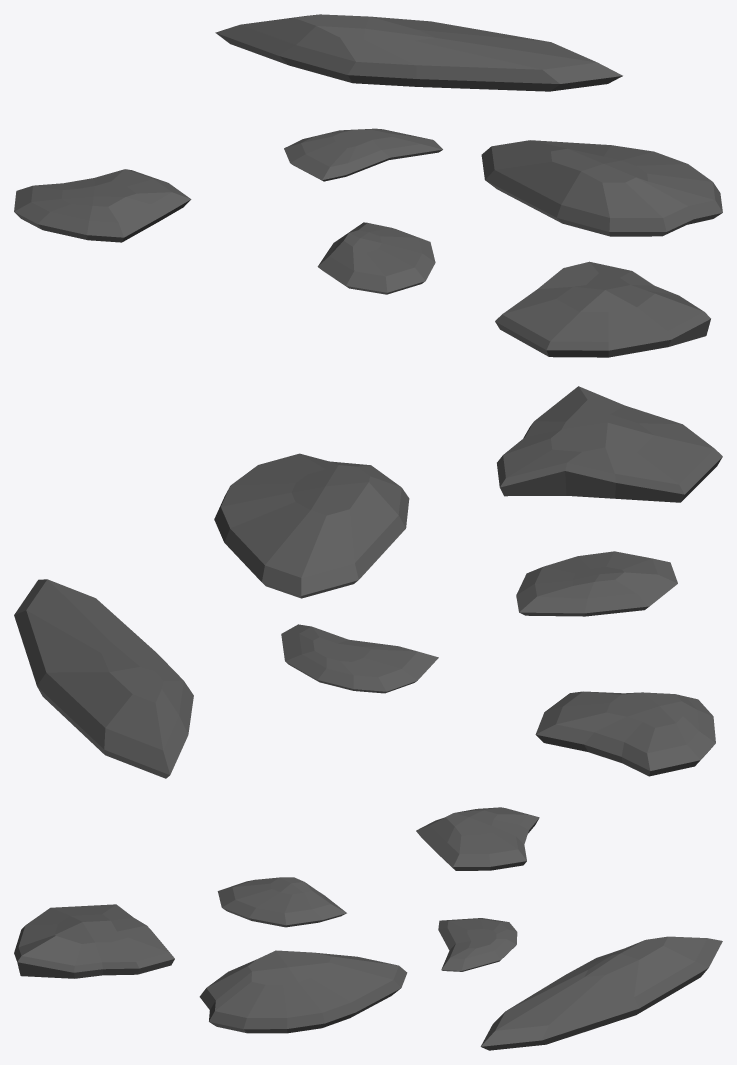
File: palmrock1.glb
3 views of the same model, one above another, from view 1: azimuth 30°, elevation 25°; view 2: azimuth 150°, elevation 25°; view 3: azimuth 270°, elevation 25° (orthographic). The views are drawn at different scales.
Visible parts, largest first — view 1: PalmRock2-col; view 2: PalmRock2-col; view 3: PalmRock2-col.
Boxes of the visible parts, x1,y1,x2,y2 form: PalmRock2-col: (14,14,722,357); PalmRock2-col: (14,386,722,778); PalmRock2-col: (14,807,722,1050).
Bounding box in the file's own units: 1.05 × 0.076 × 1.31.
1 material, 1 textured.
